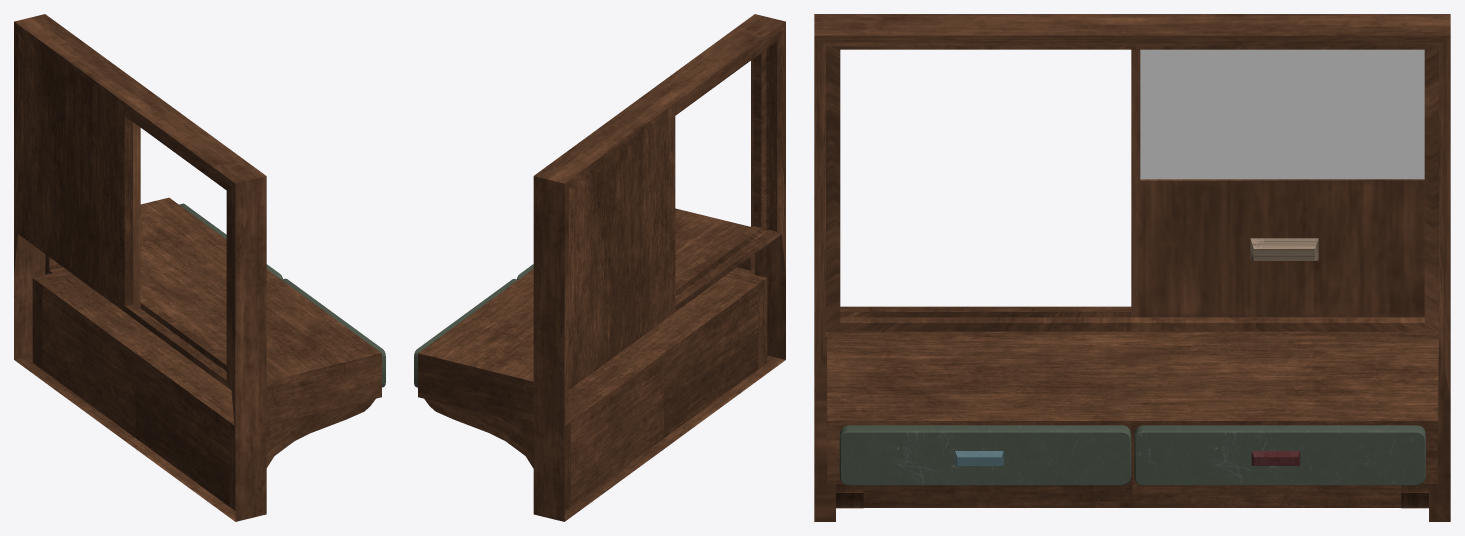
Rendered from Recep.fbx.
3 views of the same model, side by side, from view 1: azimuth 30°, elevation 25°; view 2: azimuth 150°, elevation 25°; view 3: azimuth 270°, elevation 25° (orthographic). The views are drawn at different scales.
Visible parts, largest first — view 1: Cube.010, Cube.013, Cube.020; view 2: Cube.010, Cube.012; view 3: Cube.010, Cube.013, Cube.020, Cube.012, Cube.014, Cube.015, Cube.016.
Part boxes in pixels (x1,y1,x2,y2): Cube.010: (14,14,381,521); Cube.013: (132,122,140,308); Cube.020: (282,278,385,387); Cube.010: (418,14,785,521); Cube.012: (414,279,517,387); Cube.010: (814,14,1450,521); Cube.013: (1131,49,1424,317); Cube.020: (839,425,1131,485); Cube.012: (1134,425,1425,485); Cube.014: (1250,238,1318,260); Cube.015: (1251,451,1300,465); Cube.016: (955,451,1003,465).
Size of the model in its own units: 50.16 by 98.59 by 117.
